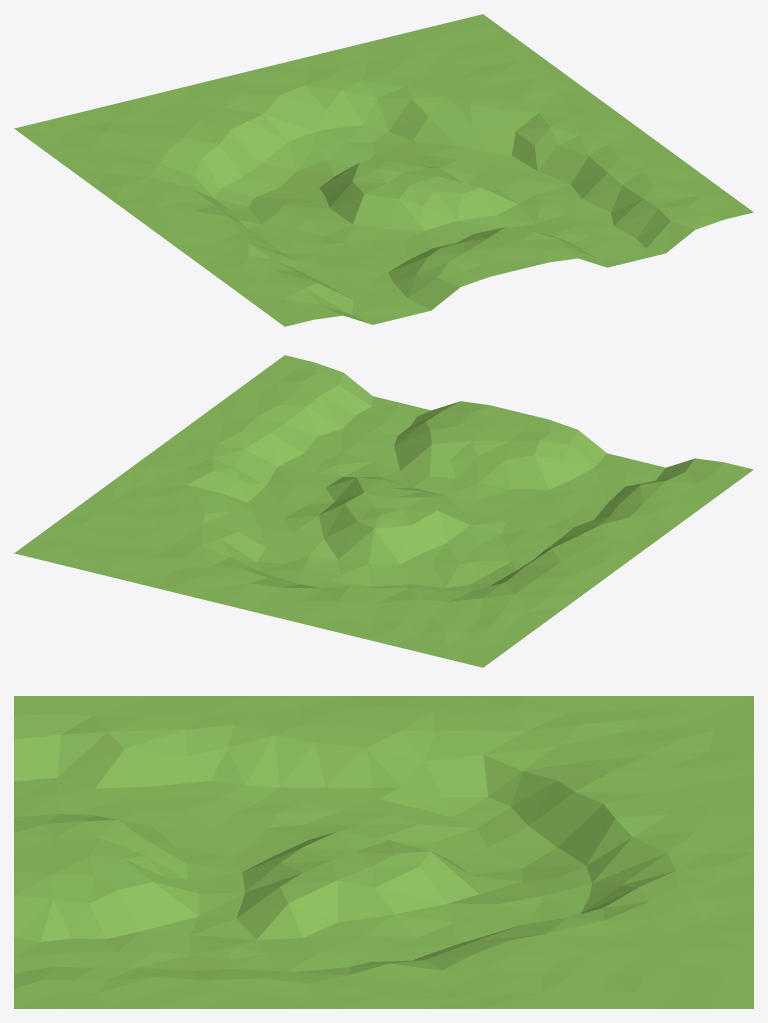
Rendered from MT_River_M_d_03.fbx.
3 renders of one model, top to bottom at view 1: azimuth 30°, elevation 25°; view 2: azimuth 150°, elevation 25°; view 3: azimuth 270°, elevation 25°, orthographic. The views are drawn at different scales.
Visible parts, largest first — view 1: MT_River_M_d_03; view 2: MT_River_M_d_03; view 3: MT_River_M_d_03.
Part boxes in pixels (x1,y1,x2,y2): MT_River_M_d_03: (14, 14, 753, 326); MT_River_M_d_03: (14, 355, 753, 667); MT_River_M_d_03: (14, 696, 753, 1008).
Bounding box in the file's own units: 5000 × 311 × 5000.
